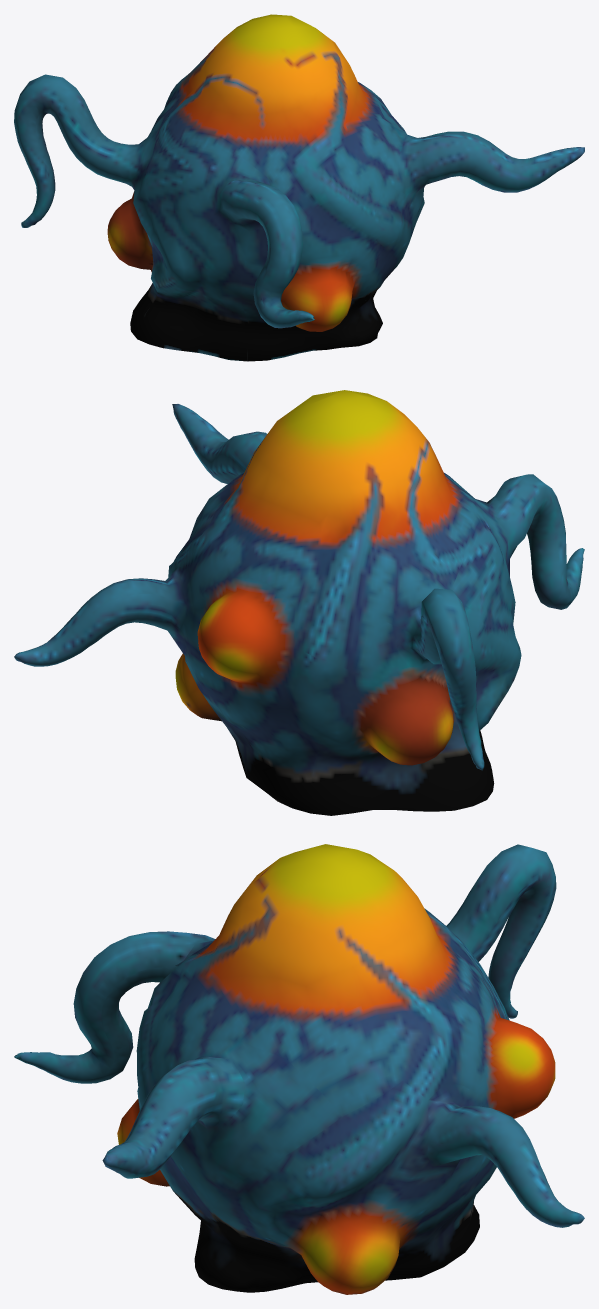
Rendered from alien_egg_min.glb.
3 renders of one model, top to bottom at view 1: azimuth 30°, elevation 25°; view 2: azimuth 150°, elevation 25°; view 3: azimuth 270°, elevation 25°, orthographic. The views are drawn at different scales.
Visible parts, largest first — view 1: Merged; view 2: Merged; view 3: Merged.
Part boxes in pixels (bbox=[...]): Merged: bbox=[14, 14, 584, 361]; Merged: bbox=[14, 390, 584, 815]; Merged: bbox=[14, 844, 584, 1294].
Size of the model in its own units: 0.2877 by 0.2 by 0.2604.
1 material, 1 textured.
